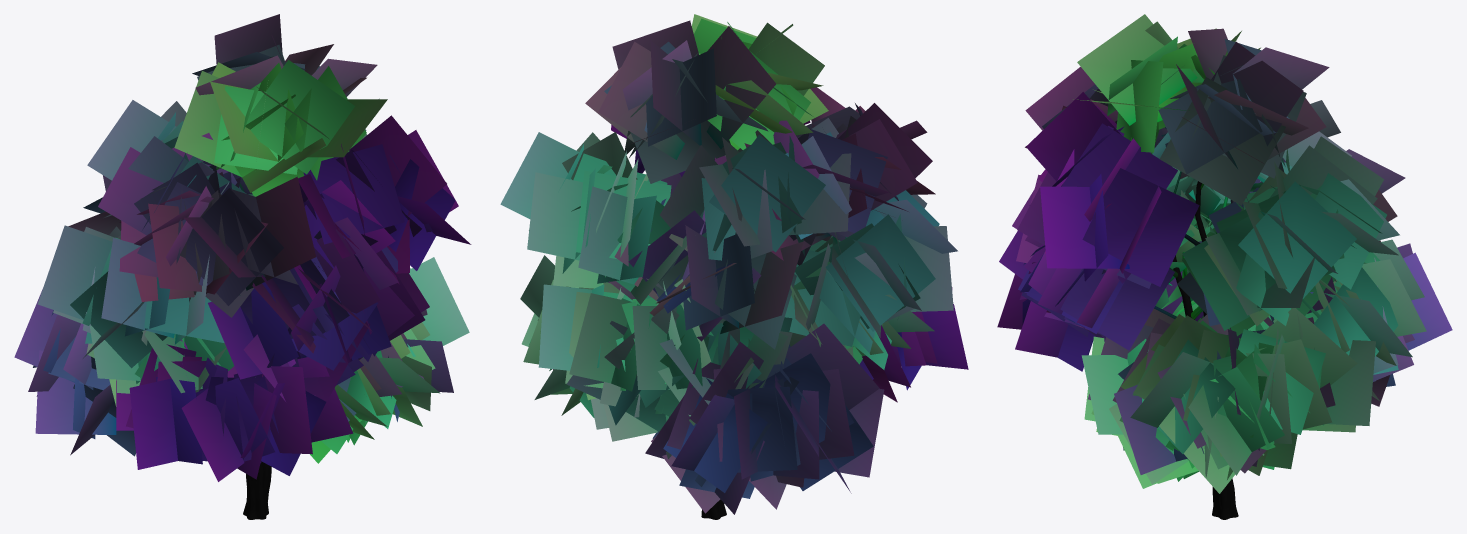
File: Tree1.fbx
3 renders of one model, left to right at view 1: azimuth 30°, elevation 25°; view 2: azimuth 150°, elevation 25°; view 3: azimuth 270°, elevation 25°, orthographic. The views are drawn at different scales.
Visible parts, largest first — view 1: Tree_1, Tree_0; view 2: Tree_1; view 3: Tree_1, Tree_0.
Boxes of the visible parts, left/top/right/bottom form: Tree_1: left=14, top=14, right=471, bottom=481; Tree_0: left=243, top=461, right=271, bottom=519; Tree_1: left=500, top=14, right=968, bottom=514; Tree_1: left=997, top=14, right=1452, bottom=493; Tree_0: left=1154, top=103, right=1238, bottom=519.
Size of the model in its own units: 463 by 527 by 445.
